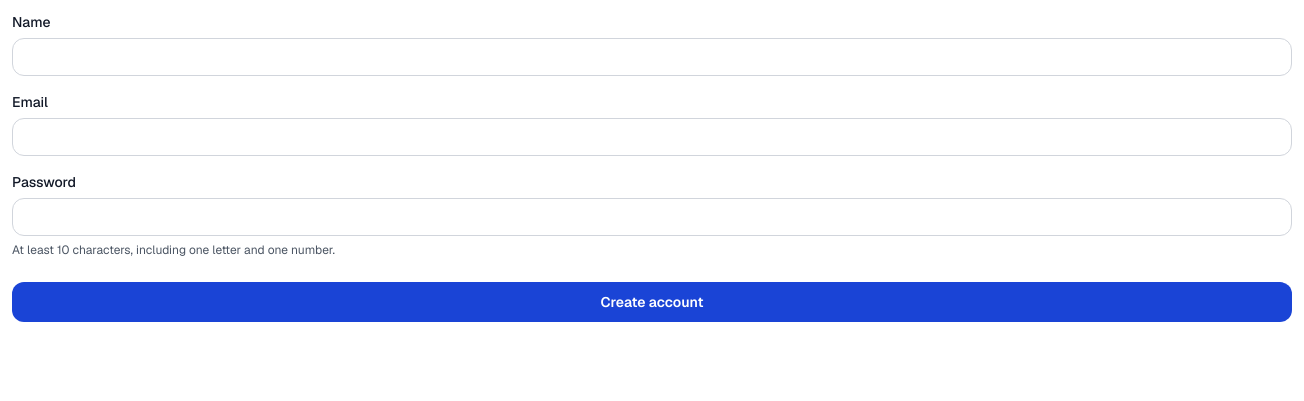
Test: RegisterForm › AC2: shows a specific message when the email is already registered
In the field labelled "Name": [652, 57] box [12,38,1292,76], type "Ada Lovelace"
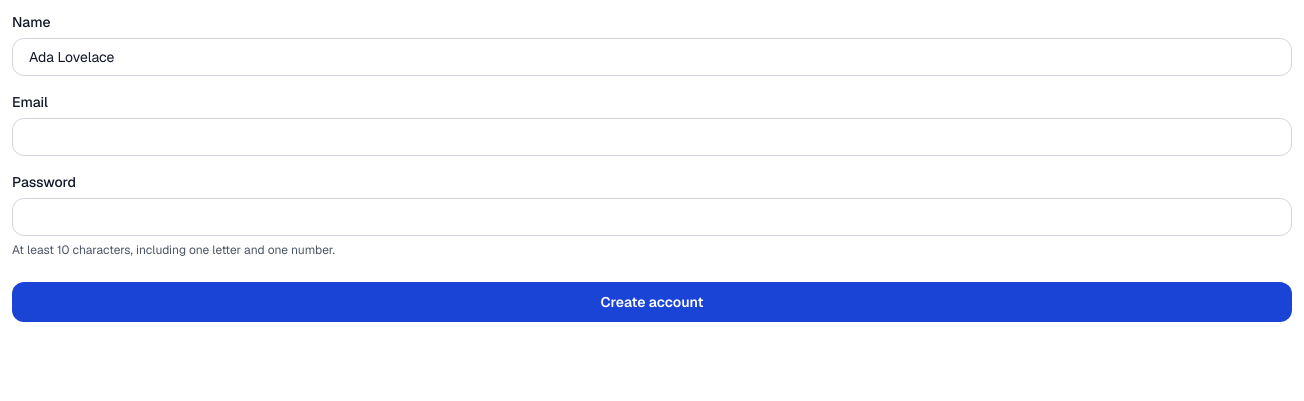
In the field labelled "Email": [652, 137] box [12,118,1292,156], type "ada@example.com"
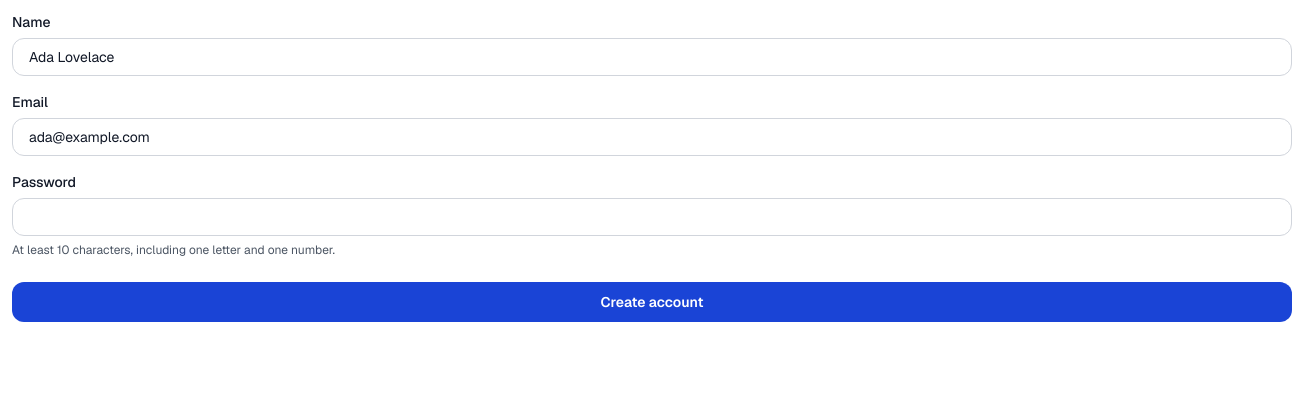
In the password field labelled "Password": [652, 217] box [12,198,1292,236], type "correcthorse1"
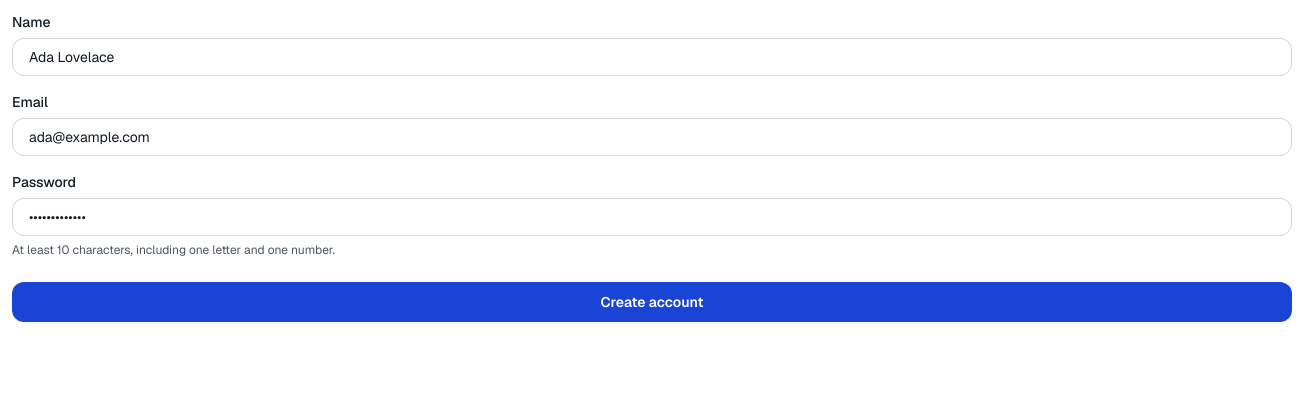
Click the button "Create account": [652, 302] box [12,282,1292,322]
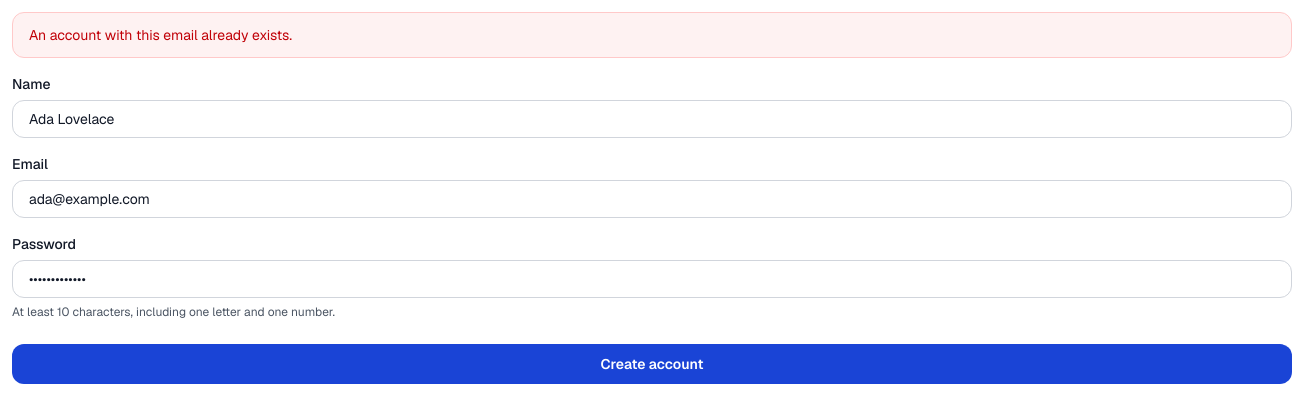
Expected: the text "An account with this email already exists." is shown, [12,12,1292,58]
